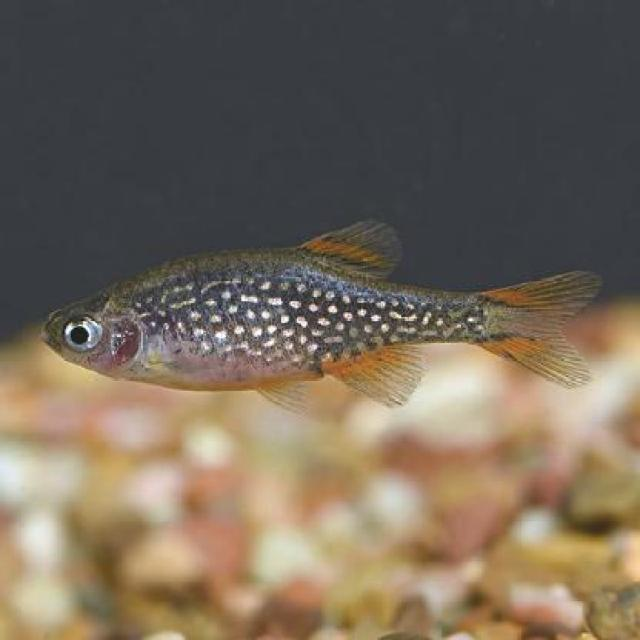ZebraFish: (40, 211, 609, 411)
